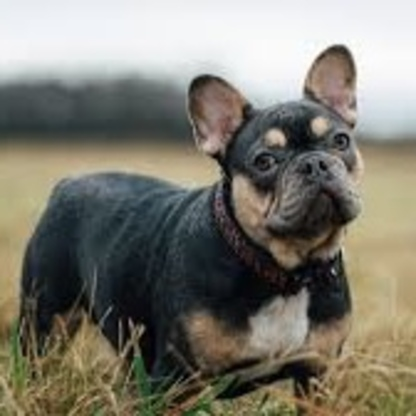bulldog: (18, 42, 368, 380)
